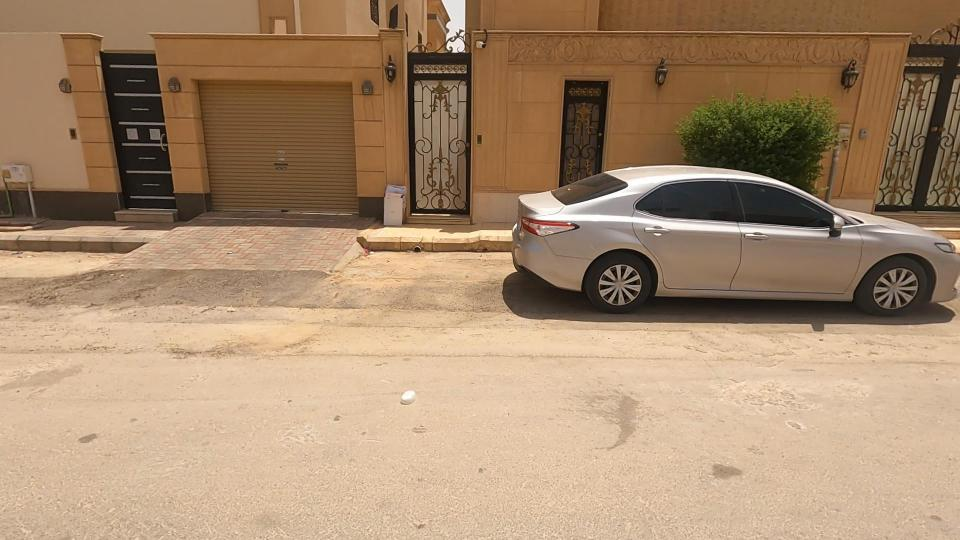GARBAGE: (350, 156, 426, 256), (374, 353, 425, 433)
